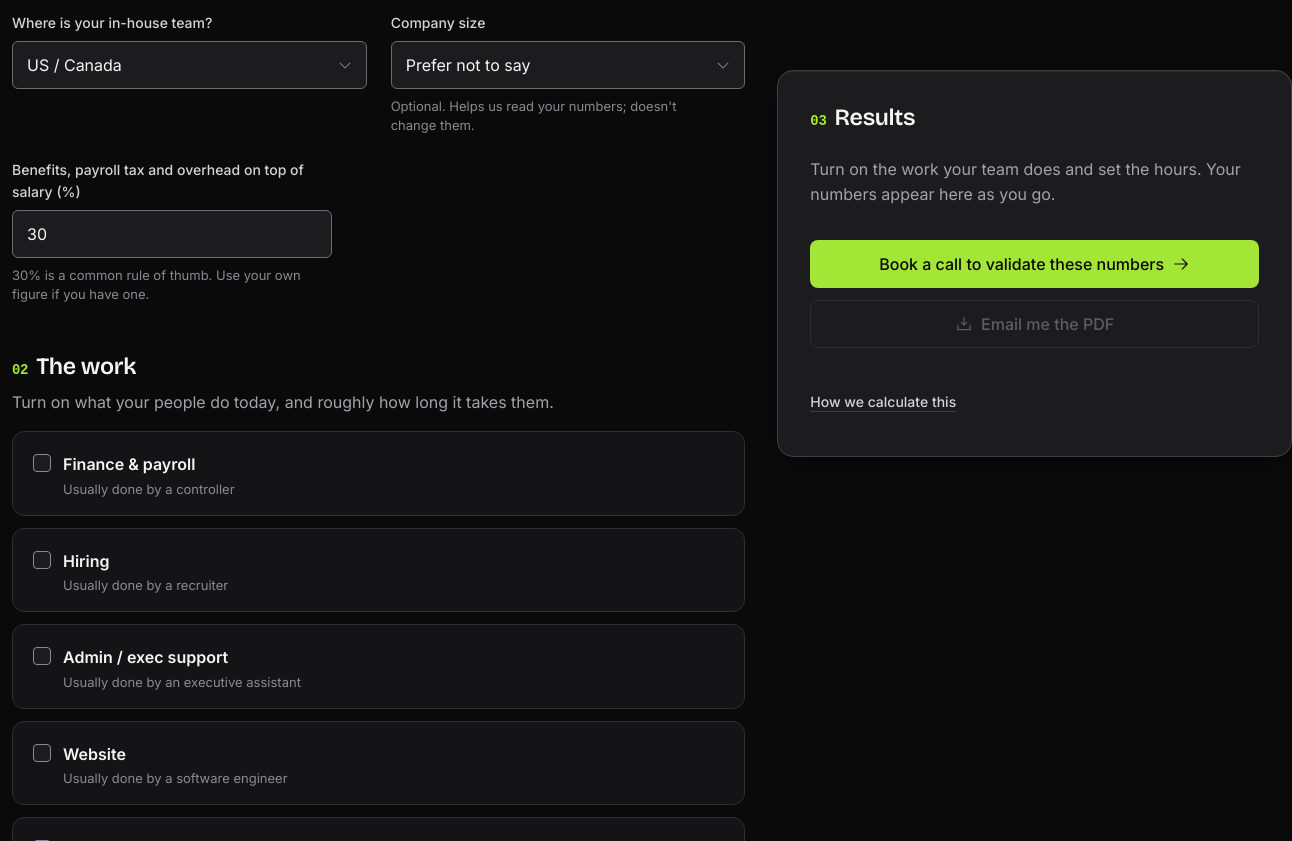
Scenario: <BackOfficeCalculator /> without a rate card (live site) › asks for a salary instead of guessing one outside the US
Step 1. Select "UK / EU" in the dropdown labelled "Where is your in-house team?" → (189, 65), box [12,41,367,89]
(page scrolled)
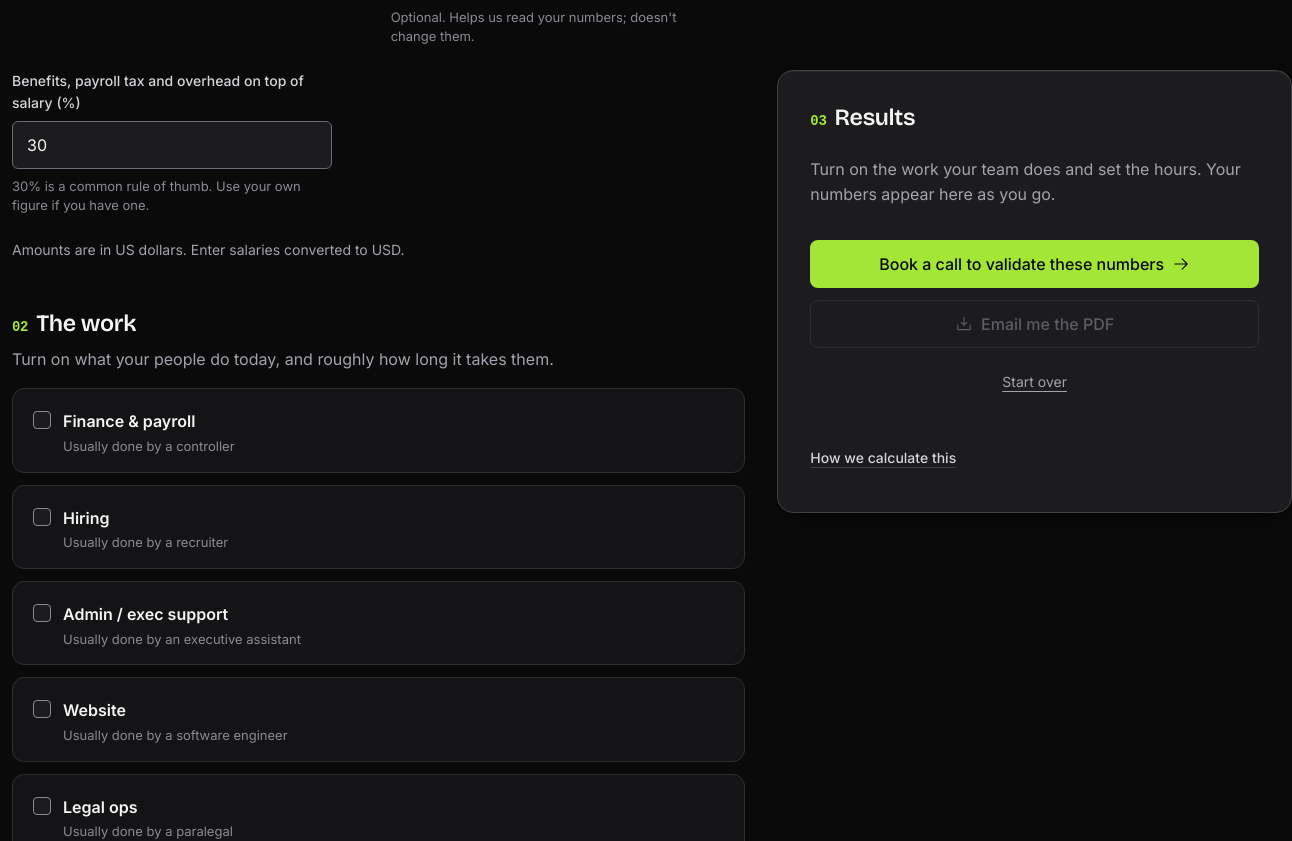
Step 2. Click the checkbox labelled "Legal ops Usually done by a paralegal" → (42, 806), box [33,797,51,815]
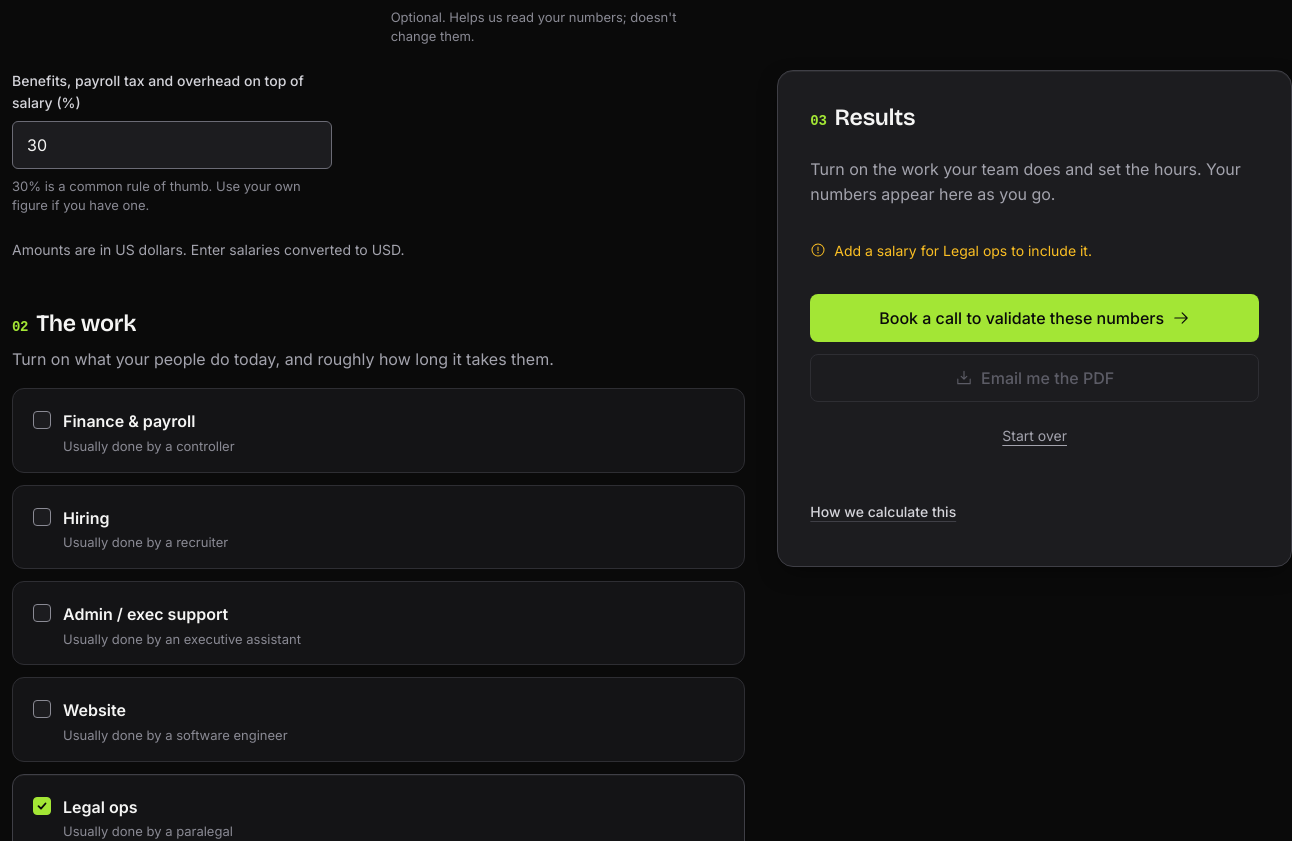
Now the text "Add a salary for Legal ops to include it." is shown, box [810,242,1092,259]
